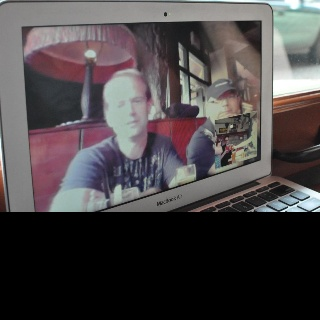without_mask: (109, 78, 147, 137)
